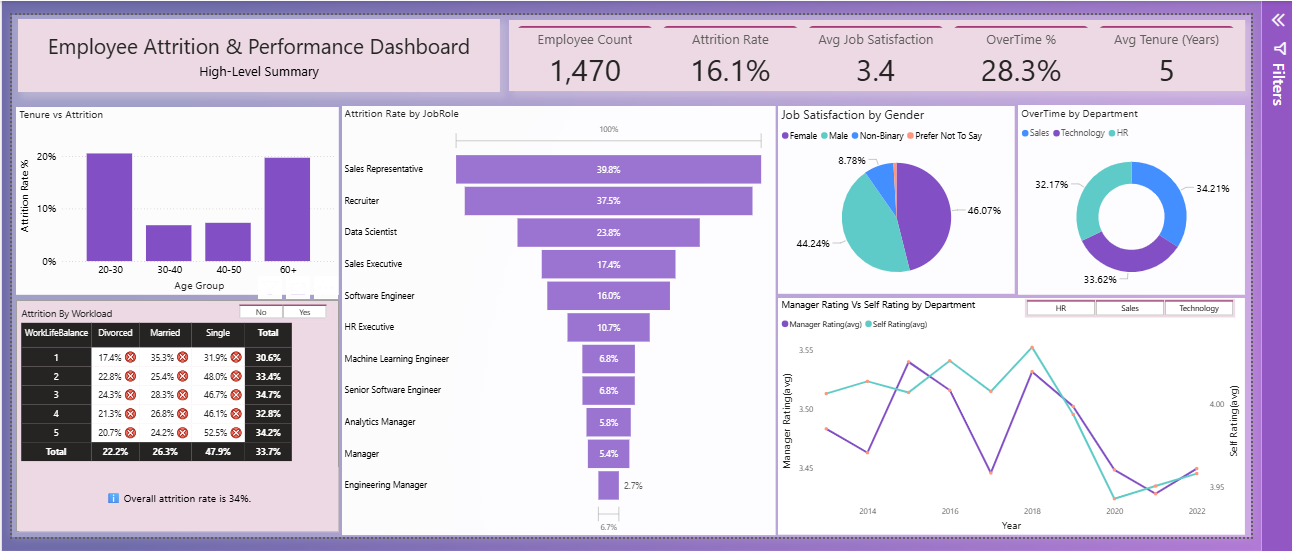

Layout of this report page (visuals, bound fields, positions):
{"tool":"powerbi","page":{"name":"Page 1","canvas":[1900,800],"ordinal":0},"visuals":[{"type":"cardVisual","fields":{"Data":["Page1 Measure.TotalEmployee","Page1 Measure.Attrition Rate","Page1 Measure.Avg Job Satisfaction","Page1 Measure.OverTime %","Page1 Measure.Avg Tenure"]},"box":[762.1,7.7,1128.7,108.9],"z":0},{"type":"pivotTable","title":"Attrition By Workload","fields":{"Rows":["PerformanceRating.WorkLifeBalance"],"Values":["Page1 Measure.AttritionRateNew"],"Columns":["PerformanceRating.PR_MaritalStatus"]},"box":[6.1,437,495.3,355.8],"z":0,"group":"g1"},{"type":"group","id":"g1","title":"Group 1","box":[6.1,437,495.3,355.8],"z":1000},{"type":"funnel","fields":{"Category":["Employee.JobRole"],"Y":["Page1 Measure.Attrition Rate"]},"box":[505.3,139.2,664.8,658],"z":2000},{"type":"lineChart","title":"Manager Rating Vs Self Rating by Department","fields":{"Y":["Page1 Measure.Avg_ManagerRating"],"Y2":["Page1 Measure.Avg_SelfRating"],"Category":["Calendar.Year"]},"box":[1174.7,434,716.1,363.4],"z":2000,"group":"g2"},{"type":"donutChart","title":"OverTime by Department","fields":{"Category":["Employee.Department"],"Y":["Page1 Measure.OverTime %"]},"box":[1542.7,138,348.1,291.4],"z":3000},{"type":"clusteredColumnChart","title":"Tenure vs Attrition","fields":{"Category":["Employee.Age Group"],"Y":["Page1 Measure.Attrition Rate"]},"box":[6.1,141.1,495.3,288.3],"z":4000},{"type":"advancedSlicerVisual","fields":{"Values":["Employee.Department"]},"box":[1553.5,435.5,322,27.6],"z":4000,"group":"g2"},{"type":"pieChart","fields":{"Category":["Employee.Gender"],"Y":["CountNonNull(PerformanceRating.JobSatisfaction)"]},"box":[1174.7,139.5,363.4,288.3],"z":5000},{"type":"card","fields":{"Values":["Page1 Measure.AttritionNarrative"]},"box":[11.4,692.7,490,98.6],"z":5000,"group":"g1"},{"type":"group","id":"g2","title":"Group 2","box":[1174.7,434,716.1,363.4],"z":6000},{"type":"advancedSlicerVisual","fields":{"Values":["Employee.OverTime"]},"box":[342.2,440.1,148.6,29.3],"z":6000,"group":"g1"},{"type":"shape","title":"Employee Attrition & Performance Dashboard ","box":[9.2,6.1,739.1,111.9],"z":7000}]}

Visuals, with their boxes in screenshot pixels (x1, y1, x2, y2), scaled from the page's 1900x800 canvas onto the 1292x551 screenshot:
cardVisual - Page1 Measure.TotalEmployee x Page1 Measure.Attrition Rate: locate(518, 5, 1286, 80)
"Attrition By Workload" pivotTable: locate(4, 301, 341, 546)
"Group 1" group: locate(4, 301, 341, 546)
funnel - Employee.JobRole x Page1 Measure.Attrition Rate: locate(344, 96, 796, 549)
"Manager Rating Vs Self Rating by Department" lineChart: locate(799, 299, 1286, 549)
"OverTime by Department" donutChart: locate(1049, 95, 1286, 296)
"Tenure vs Attrition" clusteredColumnChart: locate(4, 97, 341, 296)
advancedSlicerVisual - Employee.Department: locate(1056, 300, 1275, 319)
pieChart - Employee.Gender x CountNonNull(PerformanceRating.JobSatisfaction): locate(799, 96, 1046, 295)
card - Page1 Measure.AttritionNarrative: locate(8, 477, 341, 545)
"Group 2" group: locate(799, 299, 1286, 549)
advancedSlicerVisual - Employee.OverTime: locate(233, 303, 334, 323)
"Employee Attrition & Performance Dashboard " shape: locate(6, 4, 509, 81)
